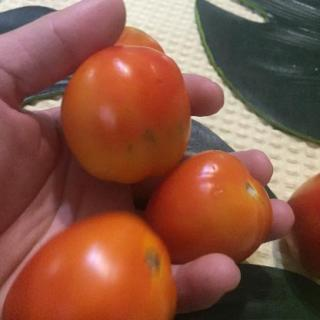Tomat: (3, 204, 201, 320), (61, 41, 194, 186), (151, 146, 280, 270)
